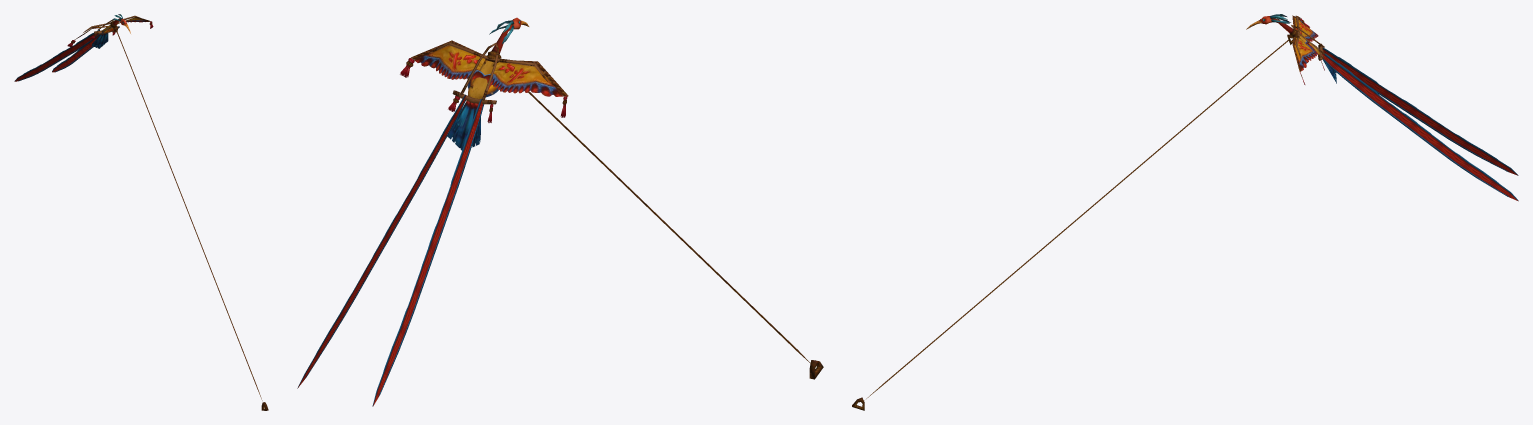
3 views of the same model, side by side, from view 1: azimuth 30°, elevation 25°; view 2: azimuth 150°, elevation 25°; view 3: azimuth 270°, elevation 25° (orthographic). The views are drawn at different scales.
Size of the model in its own units: 6.88 by 21.95 by 33.3.
Materials: 2 (2 with a texture image).
